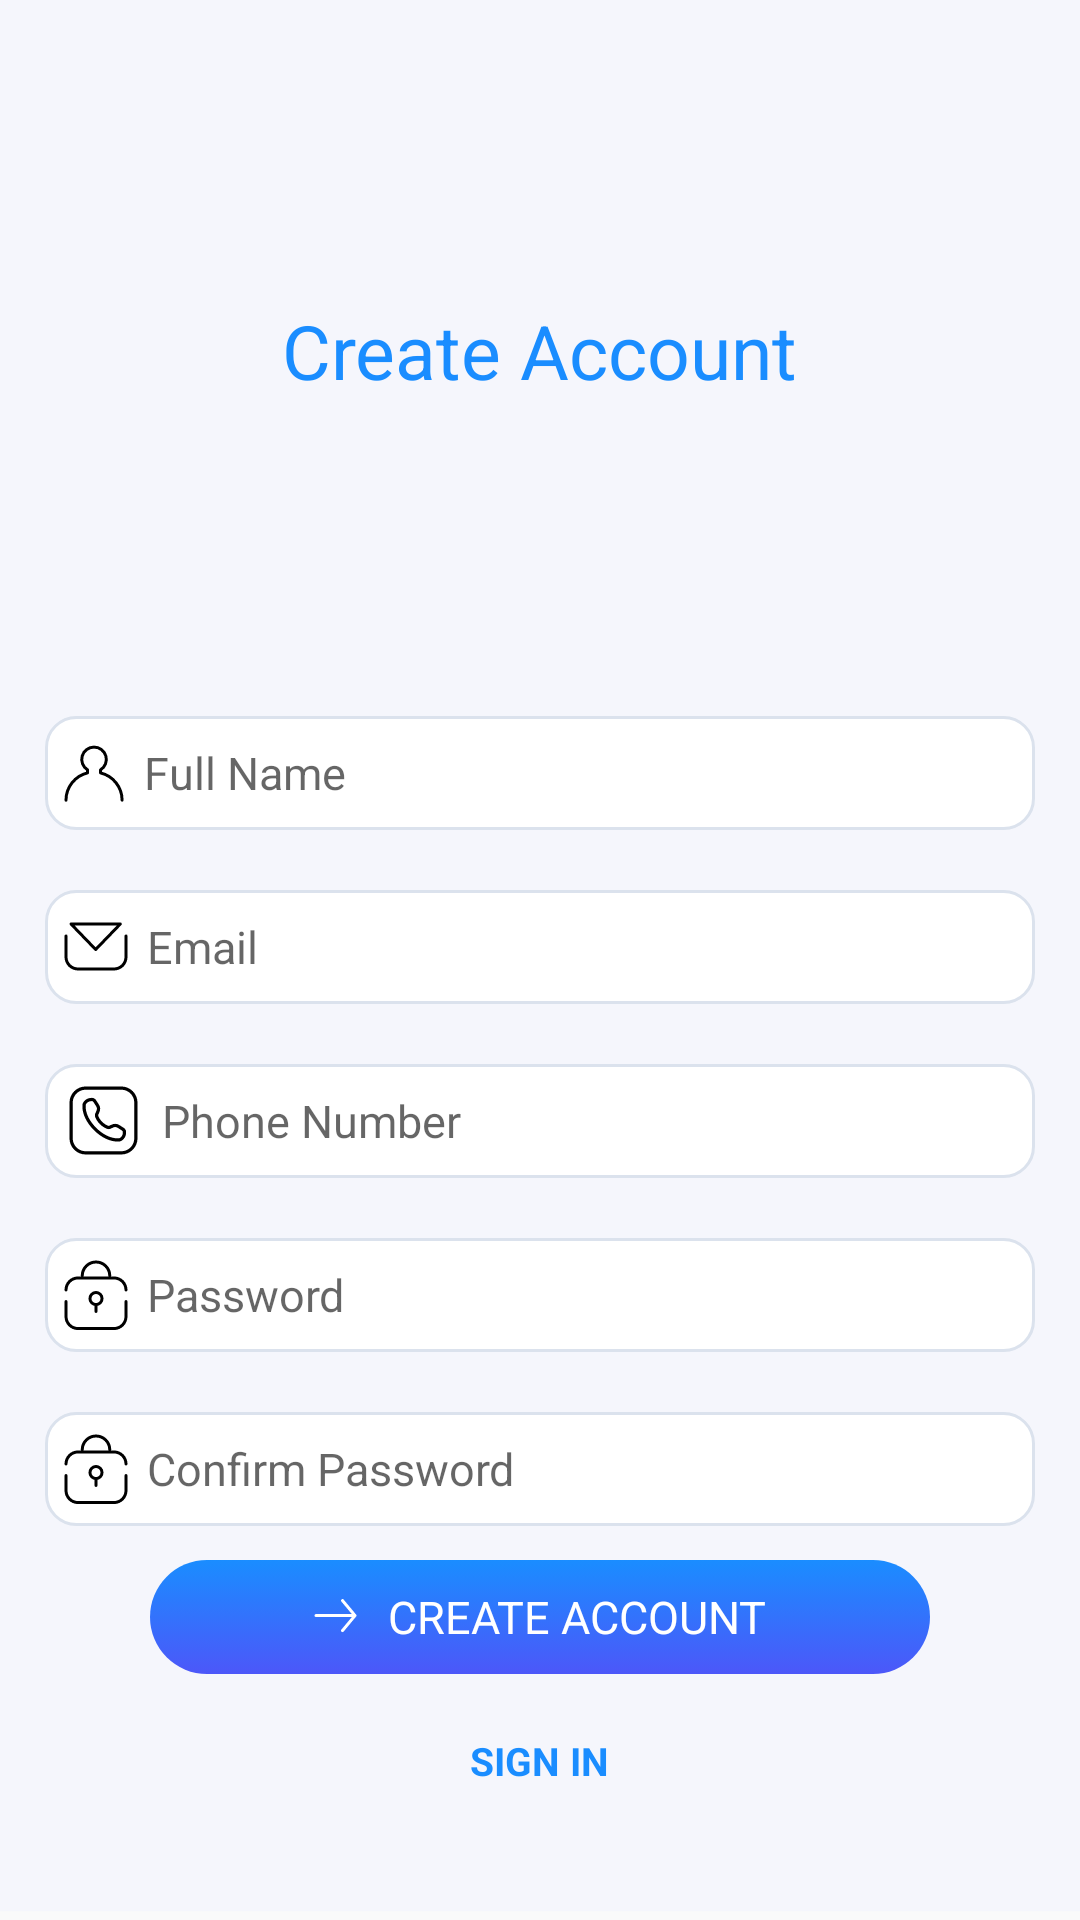

Point at icon controls on the screen. Image size 1080px×1920px, points as (x,y).
Arrow: (335,1617)
